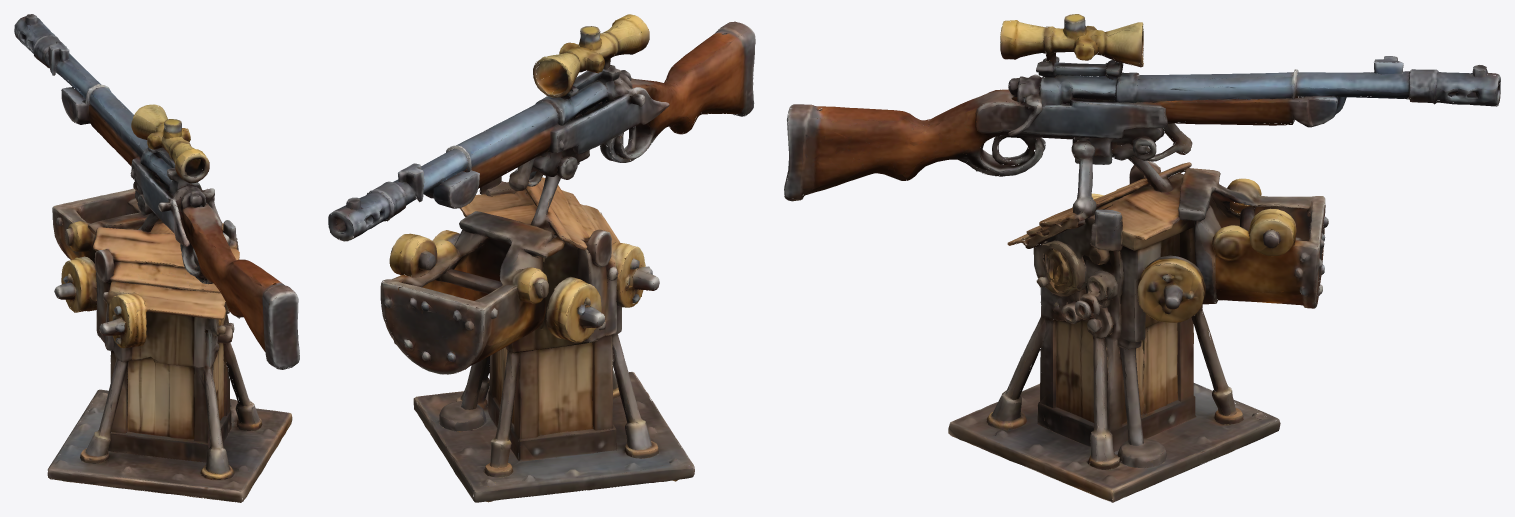
The model's file is cf_roof_perch.glb.
3 views of the same model, side by side, from view 1: azimuth 30°, elevation 25°; view 2: azimuth 150°, elevation 25°; view 3: azimuth 270°, elevation 25° (orthographic). The views are drawn at different scales.
Parts seen in each view (by area): view 1: base, gun, head; view 2: head, gun, base; view 3: gun, base, head.
Boxes of the visible parts, bbox=[...] form: base: bbox=[47, 302, 292, 502]; gun: bbox=[14, 14, 299, 369]; head: bbox=[52, 188, 240, 455]; head: bbox=[380, 135, 659, 430]; gun: bbox=[328, 14, 755, 249]; base: bbox=[413, 189, 694, 502]; gun: bbox=[784, 14, 1500, 223]; base: bbox=[948, 225, 1316, 502]; head: bbox=[958, 137, 1328, 378].
Bounding box in the file's own units: 1.01 × 1.4 × 2.19.
1 material, 1 textured.
